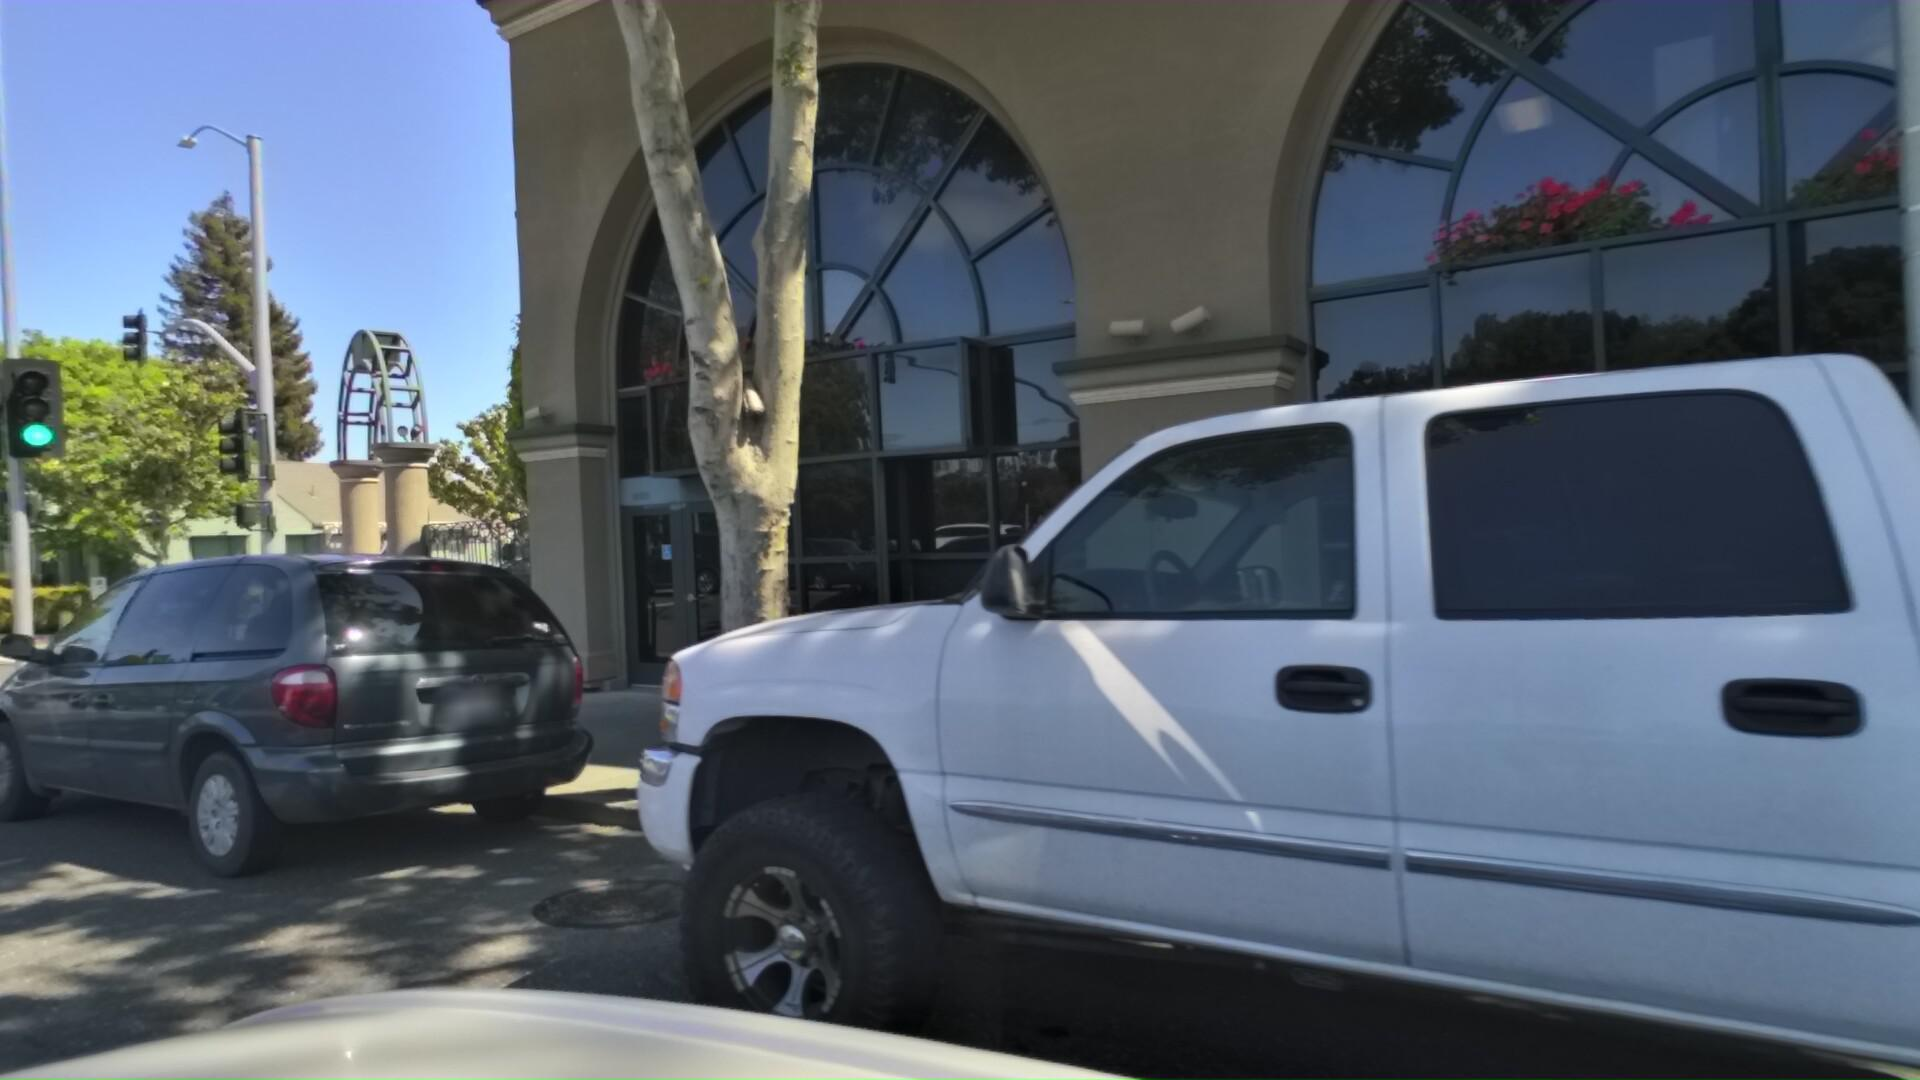car: (510, 0, 1920, 1080), (0, 531, 675, 965)
